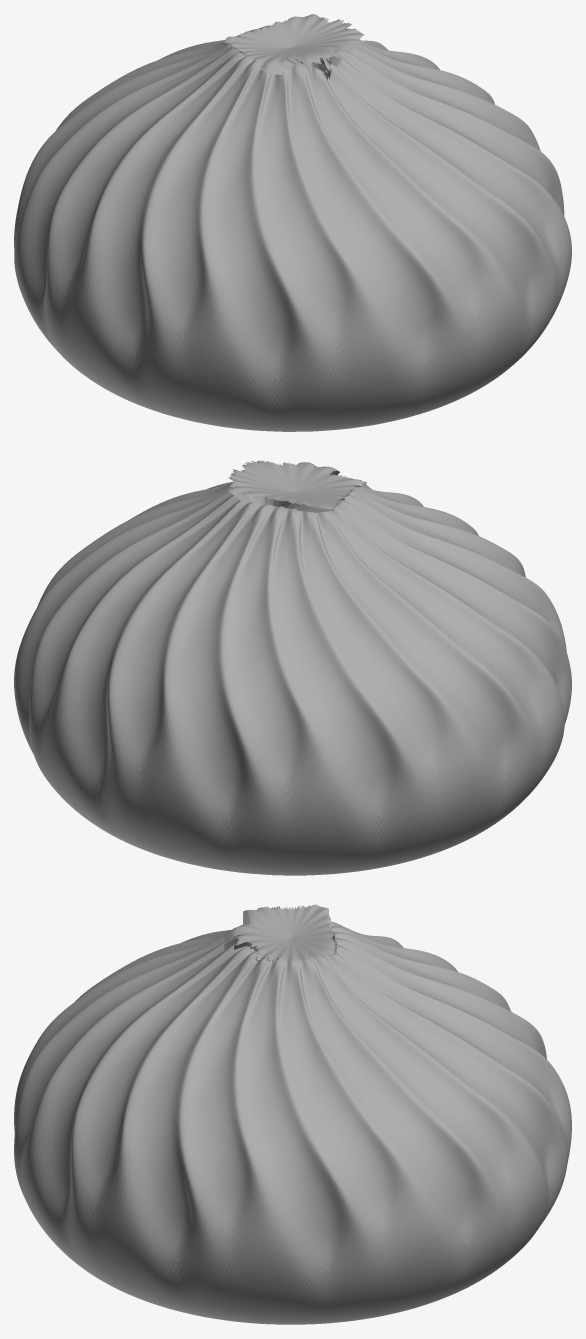
The model's file is MOMO101.fbx.
3 views of the same model, one above another, from view 1: azimuth 30°, elevation 25°; view 2: azimuth 150°, elevation 25°; view 3: azimuth 270°, elevation 25° (orthographic).
Parts seen in each view (by area): view 1: Sphere; view 2: Sphere; view 3: Sphere.
Boxes of the visible parts, <box> form: Sphere: <box>14,14,571,431</box>; Sphere: <box>14,460,571,875</box>; Sphere: <box>14,904,571,1324</box>.
Size of the model in its own units: 1.96 by 1.95 by 1.24.
Materials: 1 (1 with a texture image).
